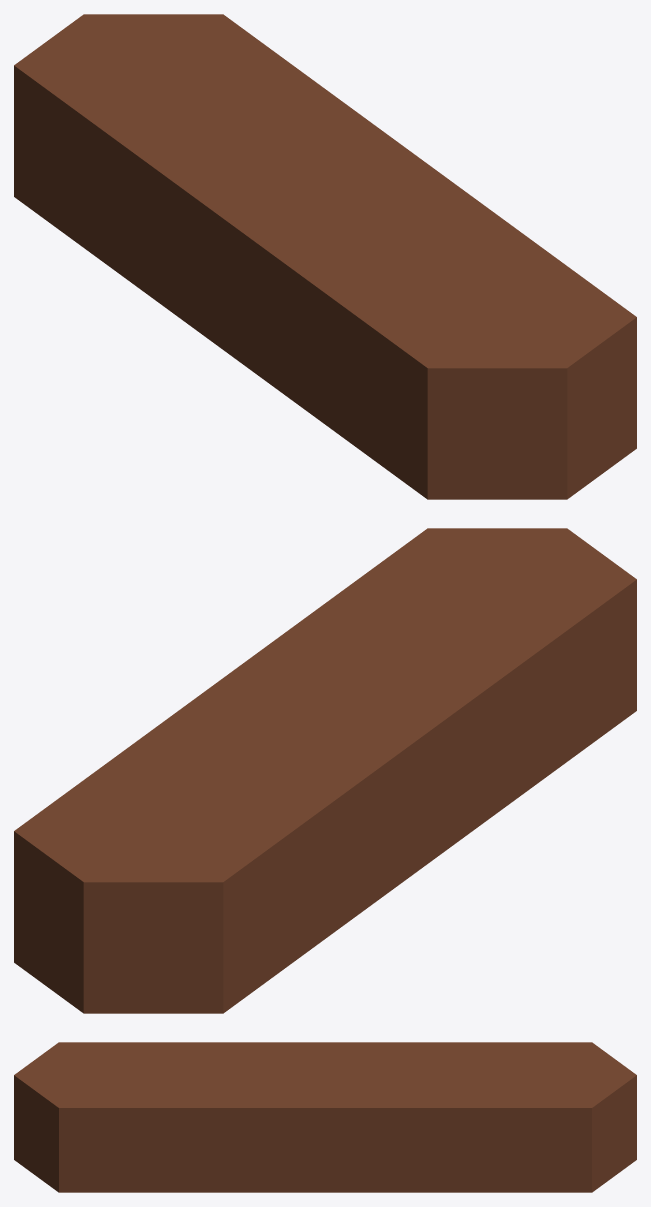
File: wooden_wall5.glb
The picture shows the model from 3 angles, top to bottom: view 1: azimuth 30°, elevation 25°; view 2: azimuth 150°, elevation 25°; view 3: azimuth 270°, elevation 25°; orthographic projection. The views are drawn at different scales.
Parts seen in each view (by area): view 1: WoodenWall5; view 2: WoodenWall5; view 3: WoodenWall5.
Boxes of the visible parts, box(x1,y1,x2,y2) form: WoodenWall5: box(14, 14, 636, 499); WoodenWall5: box(14, 528, 636, 1013); WoodenWall5: box(14, 1042, 636, 1192).
Bounding box in the file's own units: 0.5 × 0.3 × 2.
Materials: 1 (1 with a texture image).
